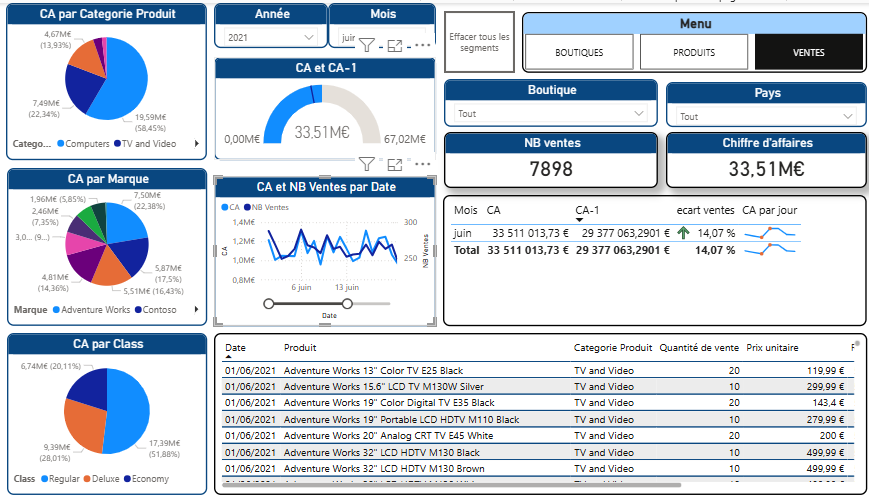

The page's visual inventory and layout, read from the dashboard file:
{"tool":"powerbi","page":{"name":"VENTES","canvas":[1280,720],"ordinal":2},"visuals":[{"type":"pieChart","fields":{"Y":["Sales.CA"],"Category":["Categorie Produits.Categorie Produit"]},"box":[10.2,0,294.1,229.8],"z":0},{"type":"pieChart","fields":{"Y":["Sales.CA"],"Category":["Produits.Marque"]},"box":[11.7,241.5,292.7,231.2],"z":1000},{"type":"pieChart","title":"CA par Class","fields":{"Y":["Sales.CA"],"Category":["Produits.Class"]},"box":[11.7,482.9,292.7,237.1],"z":2000},{"type":"slicer","title":"Année","fields":{"Values":["DateTable.Année"]},"box":[314.6,0,166.8,65.9],"z":3000},{"type":"slicer","title":"Mois","fields":{"Values":["DateTable.Mois"]},"box":[481.5,0,158,65.9],"z":4000},{"type":"lineChart","fields":{"Category":["DateTable.Date"],"Y":["Sales.CA"],"Y2":["Sales.NB Ventes"]},"box":[314.6,253.2,324.9,219.5],"z":5000},{"type":"tableEx","fields":{"Values":["DateTable.Date","Produits.Produit","Categorie Produits.Categorie Produit","Sales.Quantité de vente","Produits.Prix unitaire","Sales.Remise","Sales.Montant Vente","Sales.Montant vente aprés remise"]},"box":[314.6,482.9,955.6,237.1],"z":6000},{"type":"gauge","fields":{"Y":["Sales.CA"],"TargetValue":["Sales.CA-1"]},"box":[314.6,79,324.9,150.7],"z":7000},{"type":"tableEx","fields":{"Values":["DateTable.Mois","Sales.CA","Sales.CA-1","Sales.ecart ventes","SparklineData(Sales.CA_[DateTable.jour])"]},"box":[649.8,281,620.5,191.7],"z":8000},{"type":"card","title":"NB ventes","fields":{"Values":["Sales.NB Ventes"]},"box":[651.2,188.8,313.2,82],"z":10000},{"type":"card","title":"Chiffre d''affaires","fields":{"Values":["Sales.CA"]},"box":[976.1,188.8,294.1,82],"z":11000},{"type":"slicer","title":"Boutique","fields":{"Values":["Boutiques.Boutique"]},"box":[651.2,111.2,313.2,70.2],"z":12000},{"type":"slicer","title":"Pays","fields":{"Values":["Geographie.Pays"]},"box":[976.1,115.6,294.1,65.9],"z":13000},{"type":"actionButton","box":[651.2,11.7,103.9,90.7],"z":14000},{"type":"pageNavigator","title":"Menu","box":[765.4,13.2,504.9,89.3],"z":14001}]}

Visuals, with their boxes in screenshot pixels (x1, y1, x2, y2), scaled from the page's 1280x720 canvas onto the 869x495 screenshot:
pieChart - Sales.CA x Categorie Produits.Categorie Produit: {"left": 7, "top": 0, "right": 207, "bottom": 158}
pieChart - Sales.CA x Produits.Marque: {"left": 8, "top": 166, "right": 207, "bottom": 325}
"CA par Class" pieChart: {"left": 8, "top": 332, "right": 207, "bottom": 494}
"Année" slicer: {"left": 214, "top": 0, "right": 327, "bottom": 45}
"Mois" slicer: {"left": 327, "top": 0, "right": 434, "bottom": 45}
lineChart - DateTable.Date x Sales.CA: {"left": 214, "top": 174, "right": 434, "bottom": 325}
tableEx - DateTable.Date x Produits.Produit: {"left": 214, "top": 332, "right": 862, "bottom": 494}
gauge - Sales.CA x Sales.CA-1: {"left": 214, "top": 54, "right": 434, "bottom": 158}
tableEx - DateTable.Mois x Sales.CA: {"left": 441, "top": 193, "right": 862, "bottom": 325}
"NB ventes" card: {"left": 442, "top": 130, "right": 655, "bottom": 186}
"Chiffre d''affaires" card: {"left": 663, "top": 130, "right": 862, "bottom": 186}
"Boutique" slicer: {"left": 442, "top": 76, "right": 655, "bottom": 125}
"Pays" slicer: {"left": 663, "top": 79, "right": 862, "bottom": 125}
actionButton: {"left": 442, "top": 8, "right": 513, "bottom": 70}
"Menu" pageNavigator: {"left": 520, "top": 9, "right": 862, "bottom": 70}
